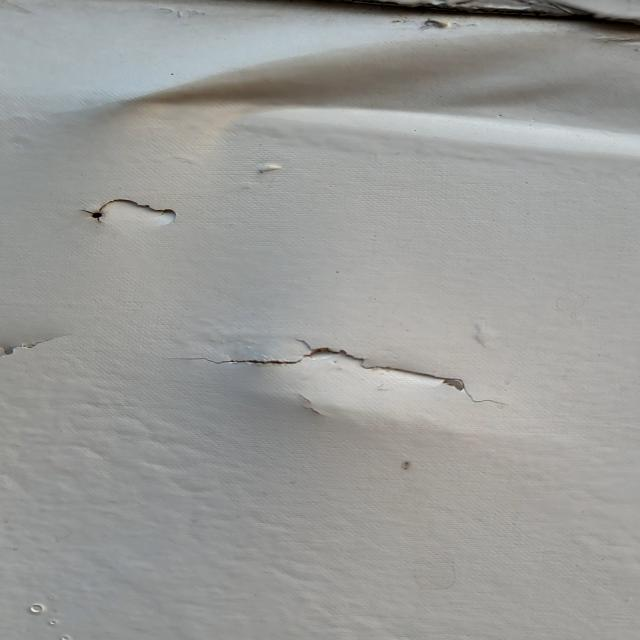Dents or Deformation: (107, 21, 640, 161)
Scratches: (177, 334, 517, 406), (71, 186, 194, 238), (1, 330, 74, 373)
